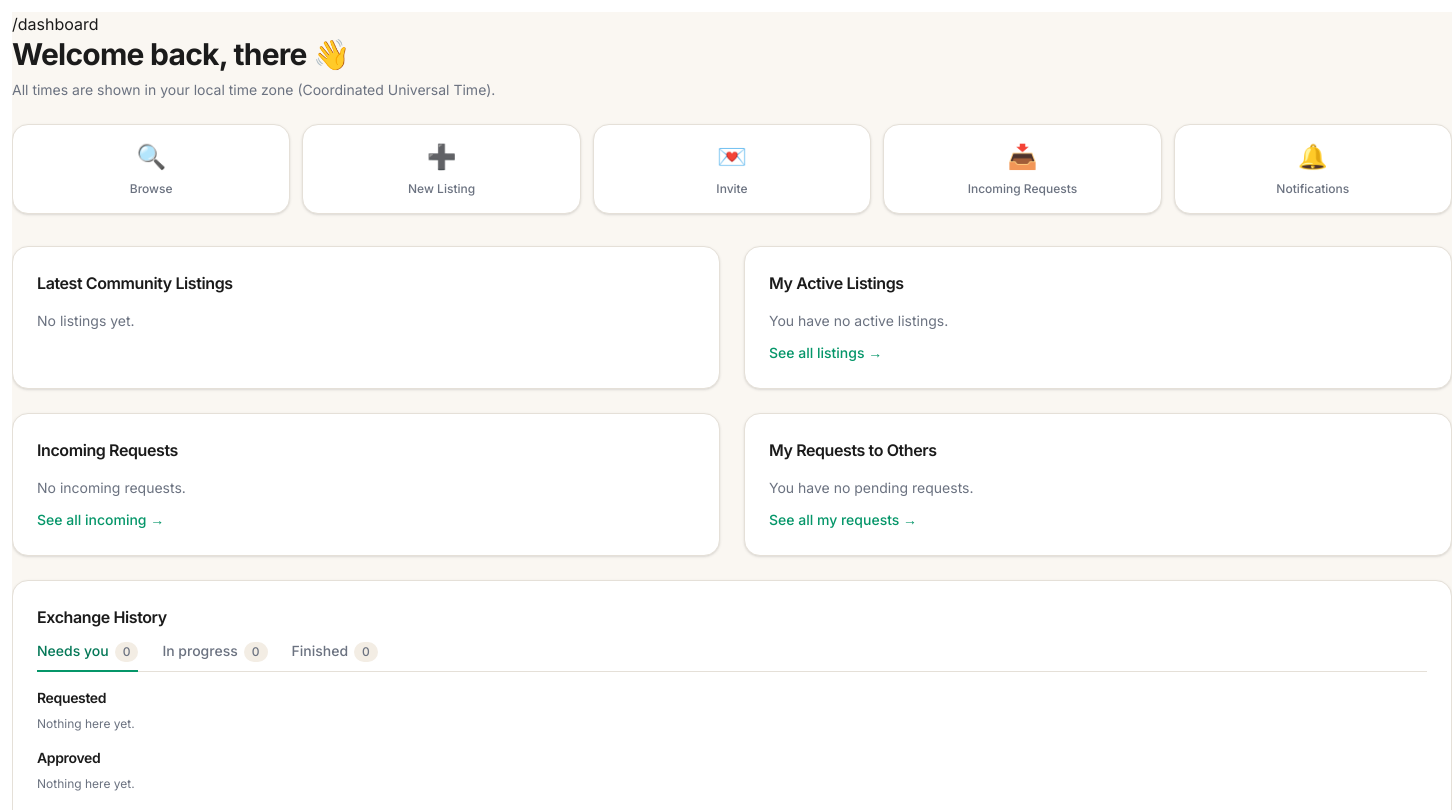
Test: clicking a history tab records it in the page URL
Expected: the tab "Needs you 0" is shown, top-left (37, 641), bottom-right (138, 672)
Expected: the text with test id "location-display" reads "/dashboard", top-left (12, 14), bottom-right (98, 34)
Click the tab "Finished 0" at x=335, y=656, box top-left (292, 641), bottom-right (378, 672)
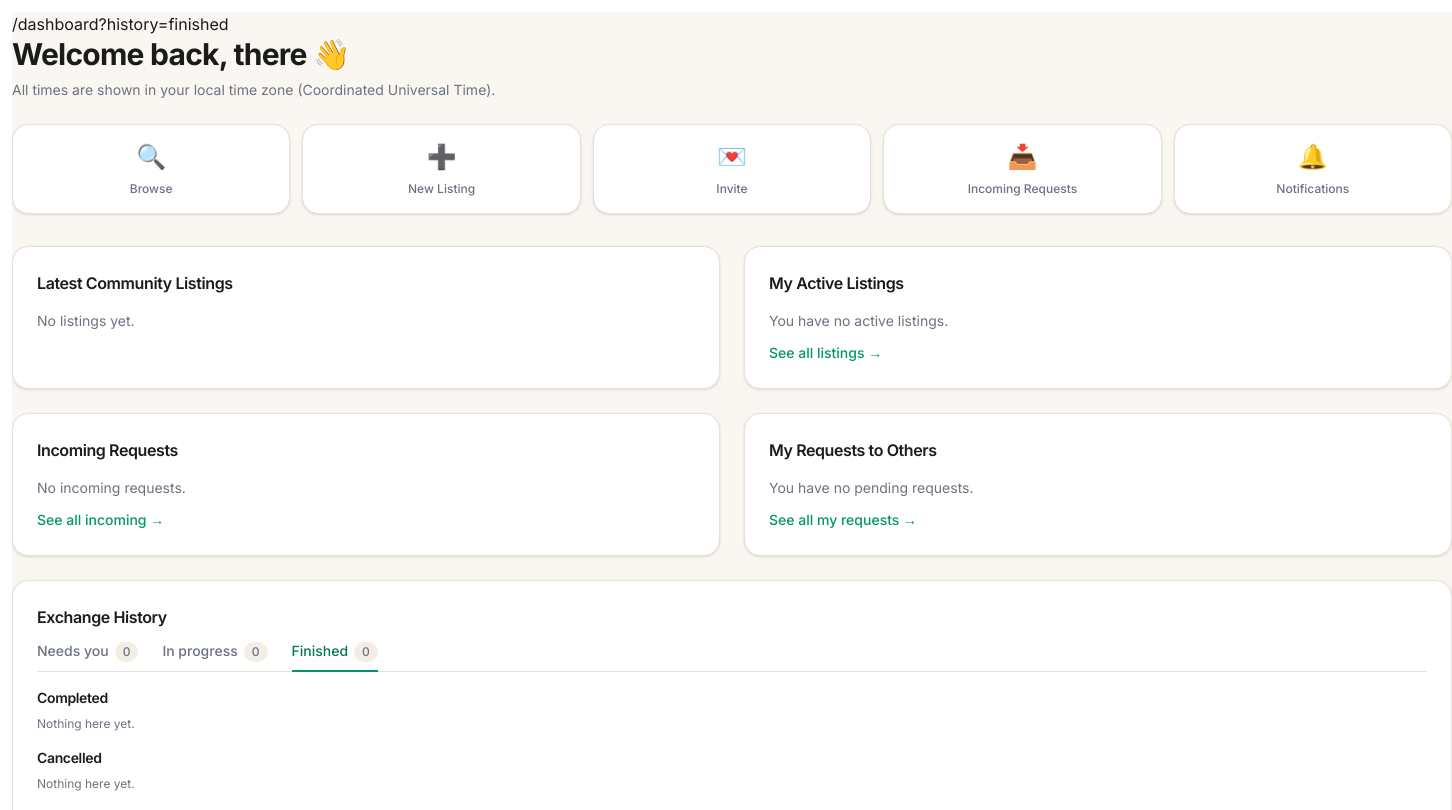
Now the text with test id "location-display" reads "/dashboard?history=finished", box top-left (12, 14), bottom-right (228, 34)
A second tab click overwrites the value rather than piling another one on.
Click the tab "In progress 0" at x=215, y=656, box top-left (162, 641), bottom-right (268, 672)
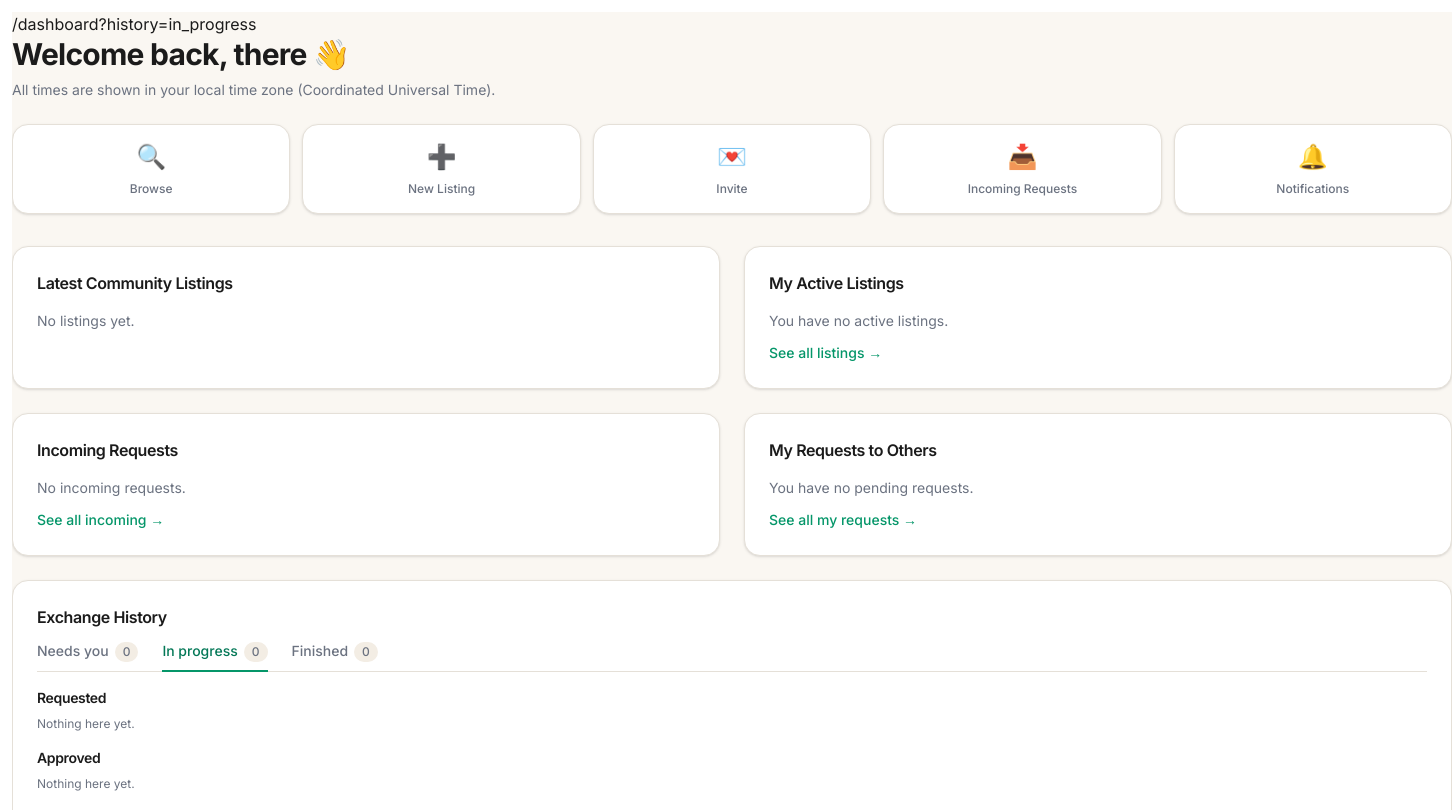
Now the text with test id "location-display" reads "/dashboard?history=in_progress", box top-left (12, 14), bottom-right (256, 34)
